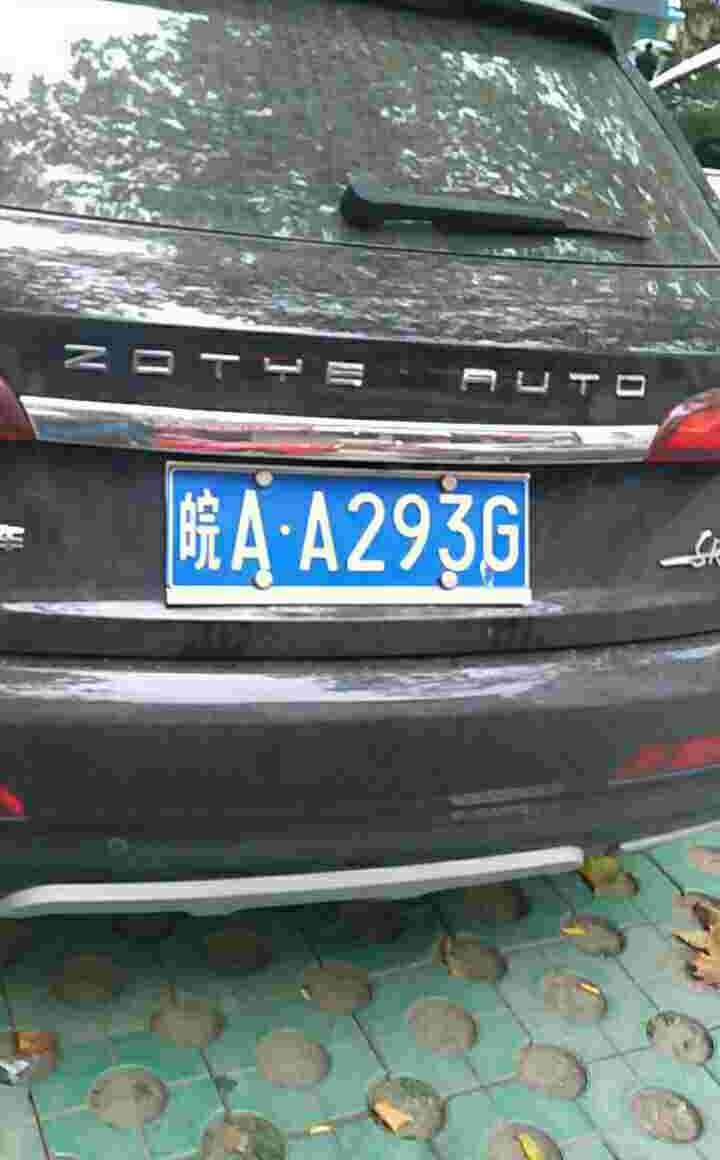license_plate: (174, 475, 540, 590)
